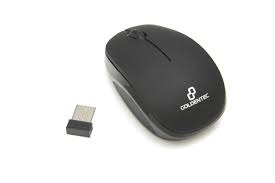mouse: (104, 20, 228, 142)
